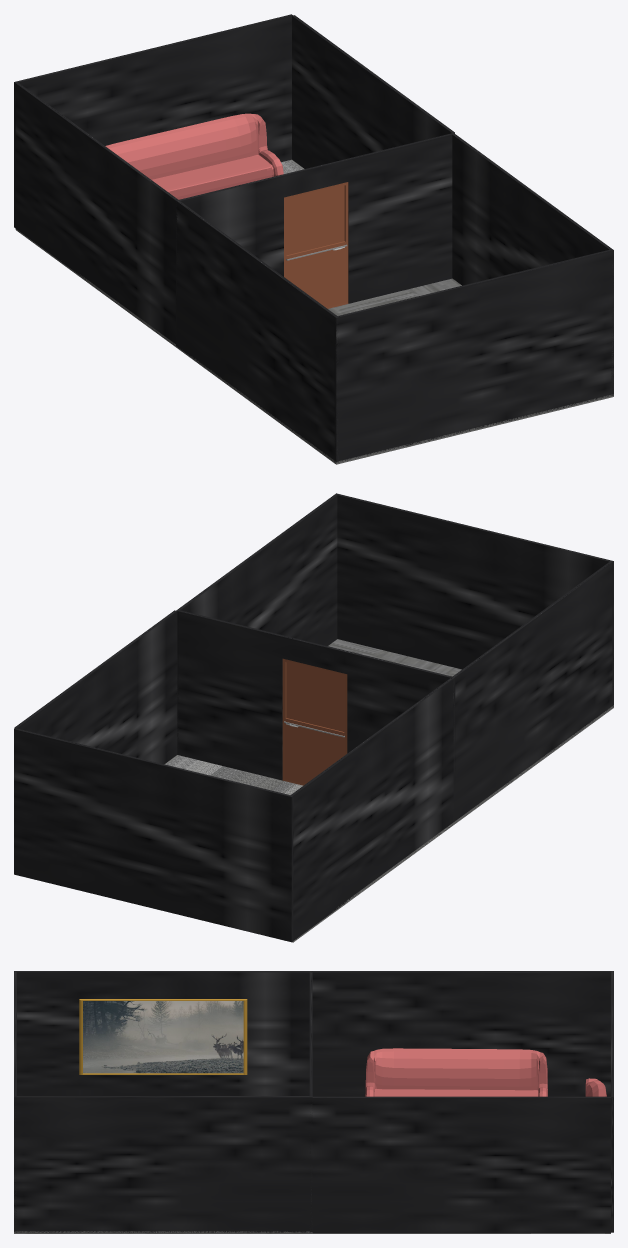
File: Room 1.fbx
3 views of the same model, one above another, from view 1: azimuth 30°, elevation 25°; view 2: azimuth 150°, elevation 25°; view 3: azimuth 270°, elevation 25° (orthographic). The views are drawn at different scales.
Visible parts, largest first — view 1: WallFront, WallFront.003, WallSide.001, Doorside, WallFront.001, WallFront.002, WallSide, Couch, Door, Ground; view 2: WallFront.001, WallFront, WallFront.003, WallSide.001, Doorside, WallFront.002, WallSide, Door, Ground; view 3: WallFront.002, WallSide, WallFront.003, WallSide.001, WallFrame, Couch.001, Ground, WallFront.001, Doorside, WallFront.
Boxes of the visible parts, box(x1,y1,x2,y2) form: WallFront: box(334, 249, 613, 462); WallFront.003: box(15, 82, 178, 343); WallSide.001: box(176, 200, 338, 462); Doorside: box(176, 133, 452, 344); WallFront.001: box(14, 14, 292, 228); WallFront.002: box(292, 15, 454, 168); WallSide: box(451, 133, 613, 395); Couch: box(105, 113, 283, 199); Door: box(284, 182, 348, 308); Ground: box(15, 159, 613, 464); WallFront.001: box(14, 728, 293, 942); WallFront: box(335, 493, 613, 707); WallFront.003: box(291, 678, 453, 940); WallSide.001: box(453, 561, 613, 821); Doorside: box(177, 610, 455, 820); WallFront.002: box(14, 610, 177, 764); WallSide: box(176, 493, 338, 754); Door: box(282, 658, 347, 785); Ground: box(164, 639, 613, 942); WallFront.002: box(312, 1096, 610, 1232); WallSide: box(14, 1096, 312, 1232); WallFront.003: box(312, 971, 610, 1096); WallSide.001: box(14, 971, 312, 1095); WallFrame: box(79, 999, 247, 1074); Couch.001: box(365, 1048, 547, 1096); Ground: box(14, 1231, 610, 1233); WallFront.001: box(611, 971, 613, 1232); Doorside: box(309, 971, 312, 1230); WallFront: box(14, 971, 16, 1232).
Bounding box in the file's own units: 2010 × 1010 × 4020.
8 materials, 3 textured.
